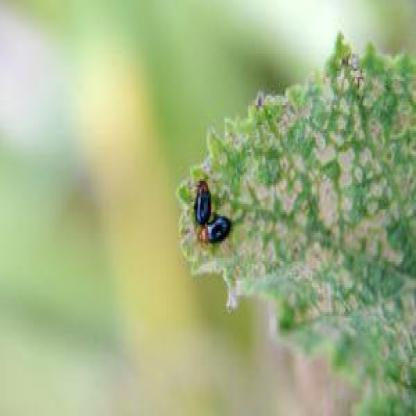beetle: (198, 215, 234, 246), (196, 181, 210, 225)
